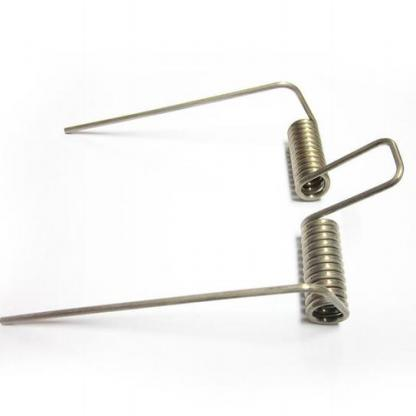FOD: (0, 79, 407, 328)
